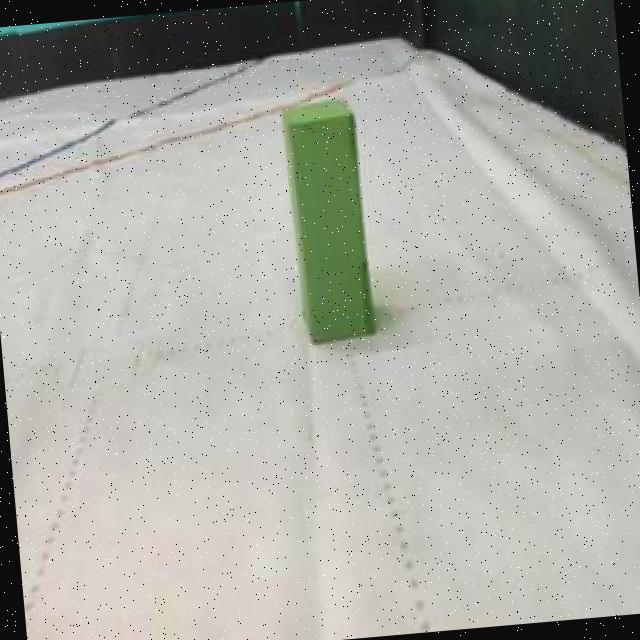greenbox: (278, 92, 380, 350)
